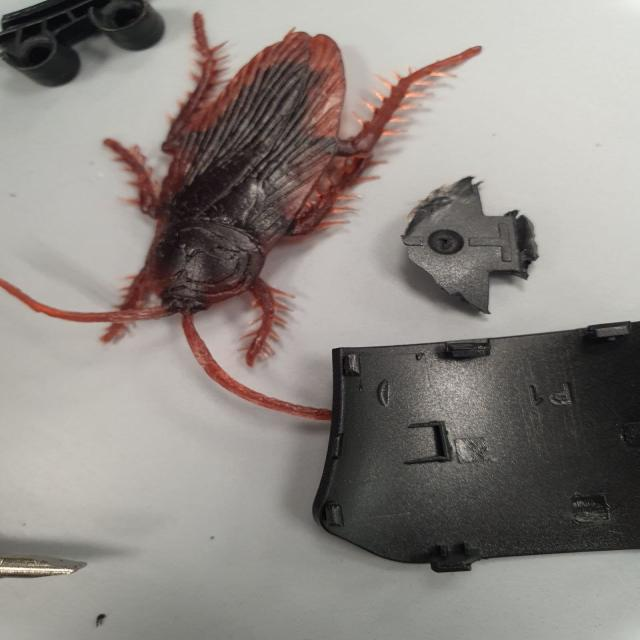Cockroach: (1, 0, 468, 450)
